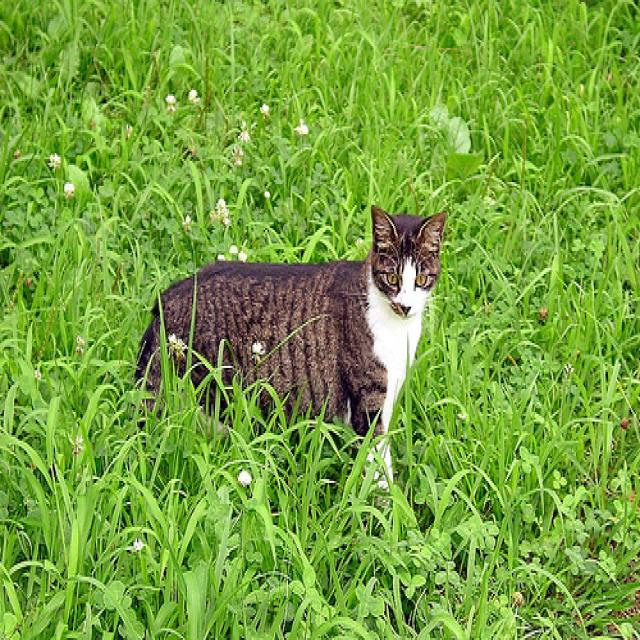cat: (134, 204, 448, 499)
